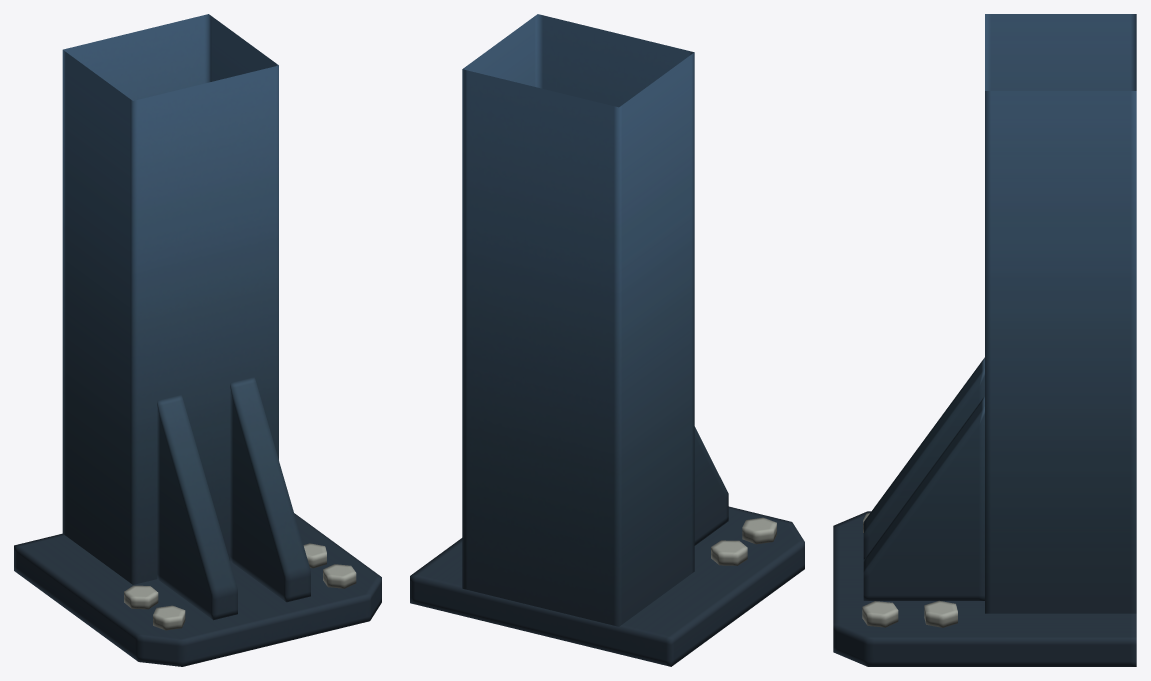
File: SM_pillar_base.fbx
3 renders of one model, left to right at view 1: azimuth 30°, elevation 25°; view 2: azimuth 150°, elevation 25°; view 3: azimuth 270°, elevation 25°, orthographic. The views are drawn at different scales.
Parts seen in each view (by area): view 1: SM_pillar_base, Cylinder.003, Cylinder, Cylinder.002; view 2: SM_pillar_base, Cylinder.003, Cylinder.002; view 3: SM_pillar_base, Cylinder, Cylinder.001.
Part boxes in pixels (x1,y1,x2,y2): SM_pillar_base: [14, 14, 381, 666]; Cylinder.003: [124, 585, 158, 609]; Cylinder: [323, 564, 356, 588]; Cylinder.002: [153, 605, 185, 630]; SM_pillar_base: [410, 14, 804, 666]; Cylinder.003: [711, 540, 747, 565]; Cylinder.002: [742, 517, 776, 544]; SM_pillar_base: [833, 14, 1136, 666]; Cylinder: [862, 601, 898, 627]; Cylinder.001: [924, 600, 957, 627].
Size of the model in its own units: 100 by 200 by 100.
